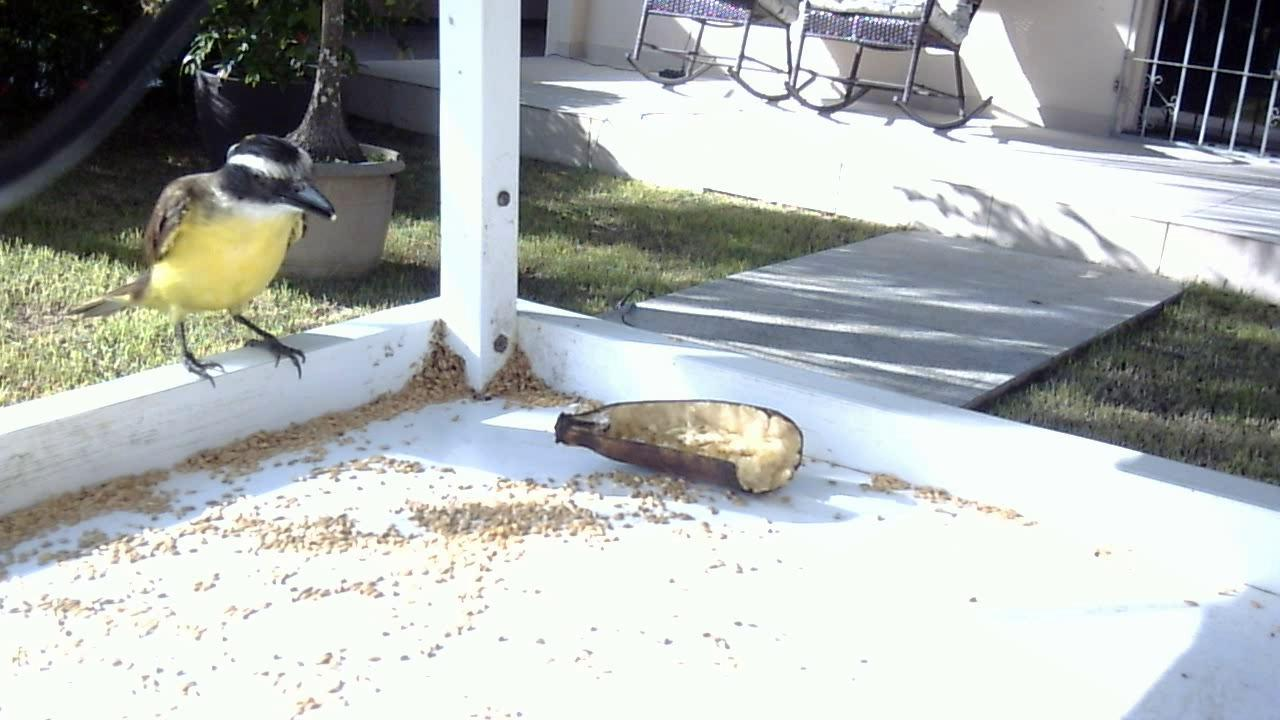bem_te_vi: (52, 122, 340, 406)
